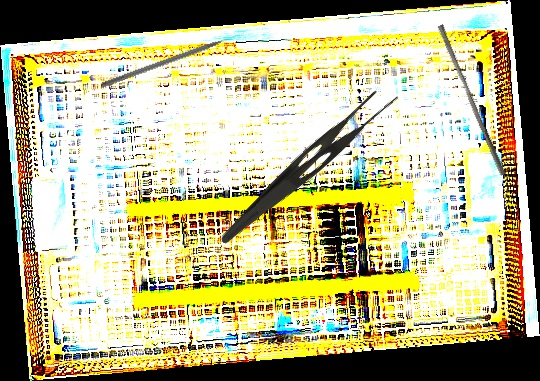Dressing Forceps: (217, 73, 403, 264)
Hook Surgical: (100, 30, 246, 89)
Pusher: (432, 24, 512, 176)
